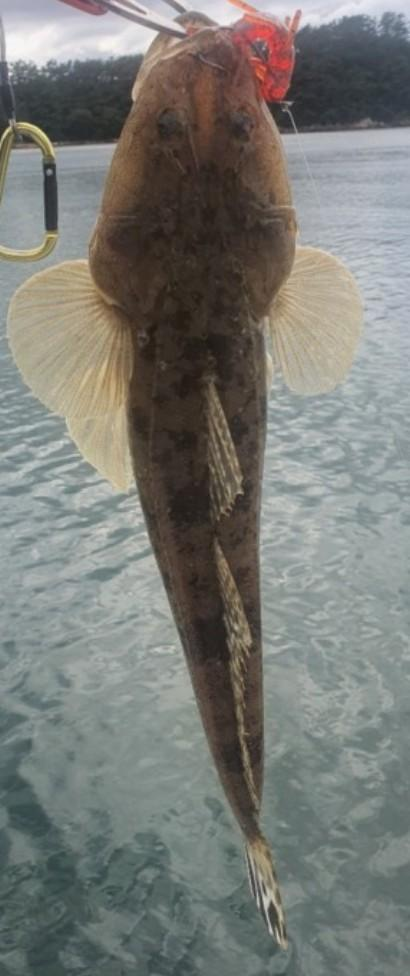fish: (8, 10, 364, 953)
